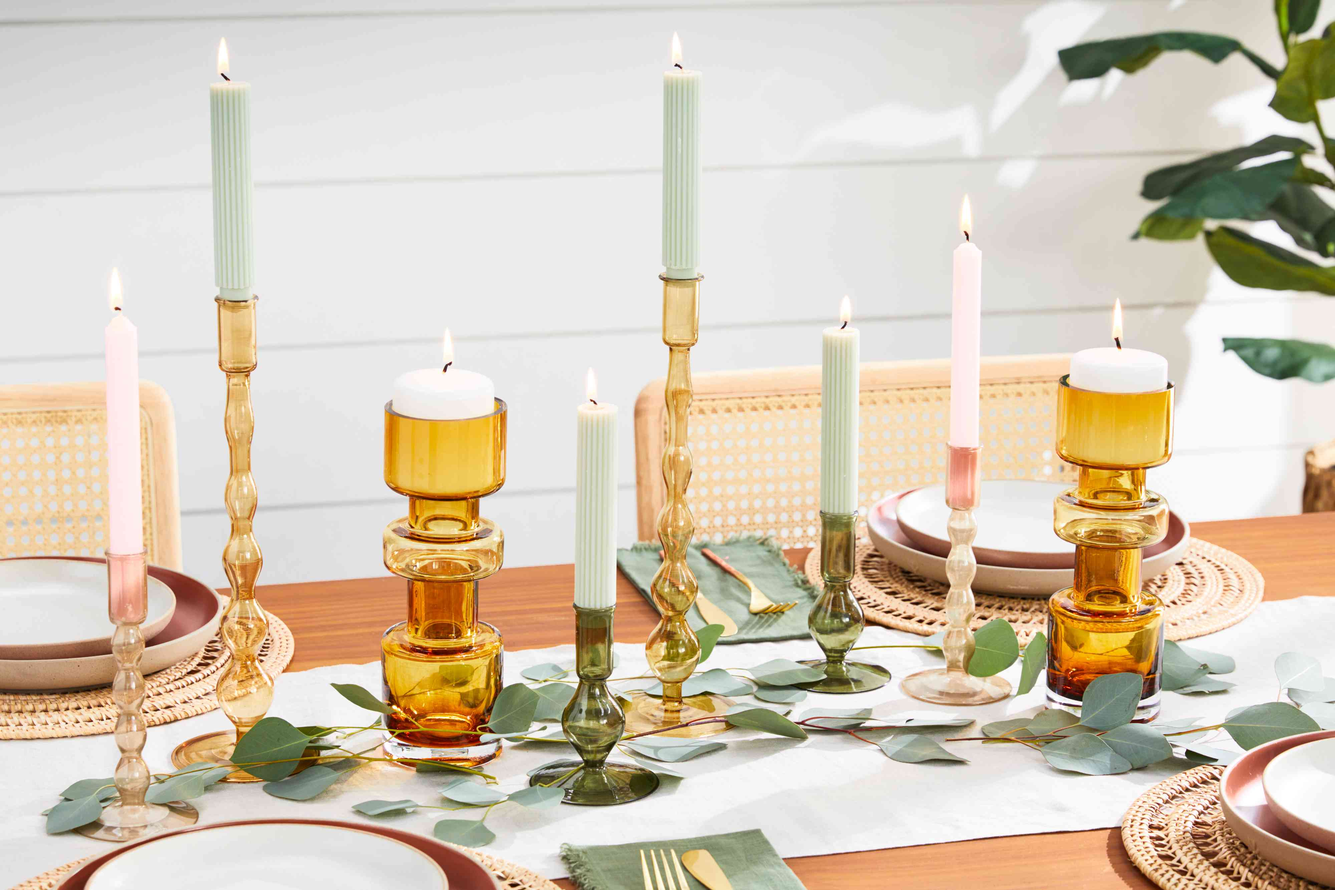Open-Flame-Hazard: (358, 292, 535, 527), (172, 14, 282, 389), (69, 248, 168, 646), (632, 23, 736, 370), (1041, 280, 1186, 483), (552, 354, 635, 653), (791, 290, 874, 554), (926, 191, 1002, 474)
